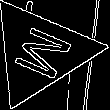M_SE: (4, 21, 76, 84)
